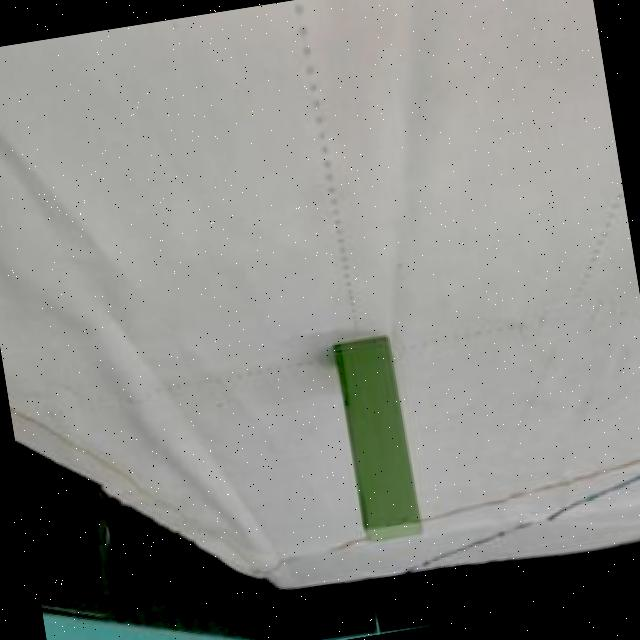greenbox: (332, 334, 424, 549)
